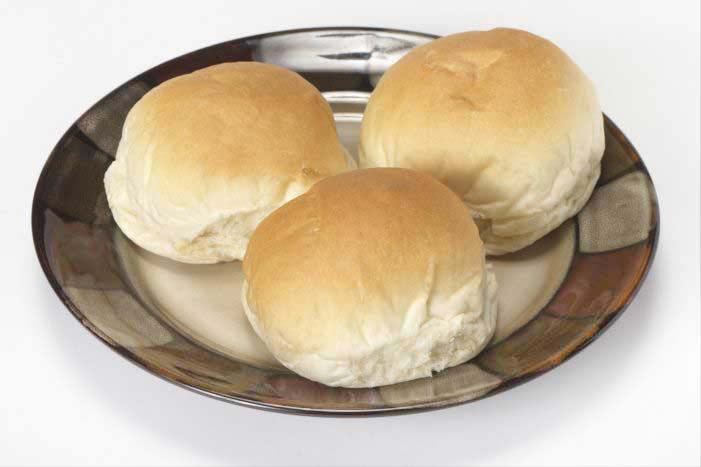hamburger_buns: (338, 21, 633, 254), (218, 162, 515, 383), (95, 63, 382, 276)
